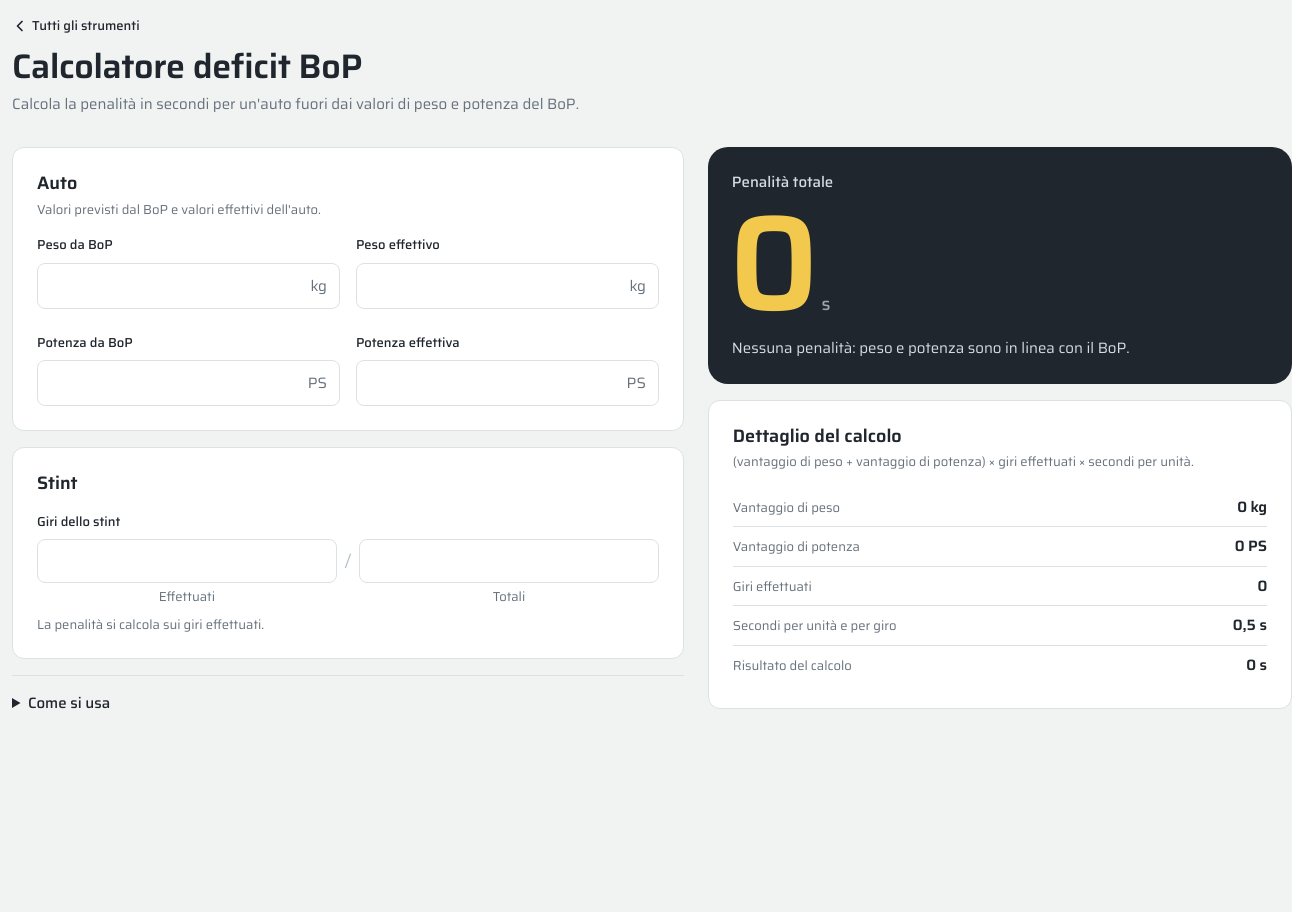
Test case: <BopDeficitCalculator /> › calcola la penalità per un’auto più leggera e più potente
Step 1. Type "1300" into the number field labelled "Peso da BoP" → (174, 286), box [38,264,311,308]
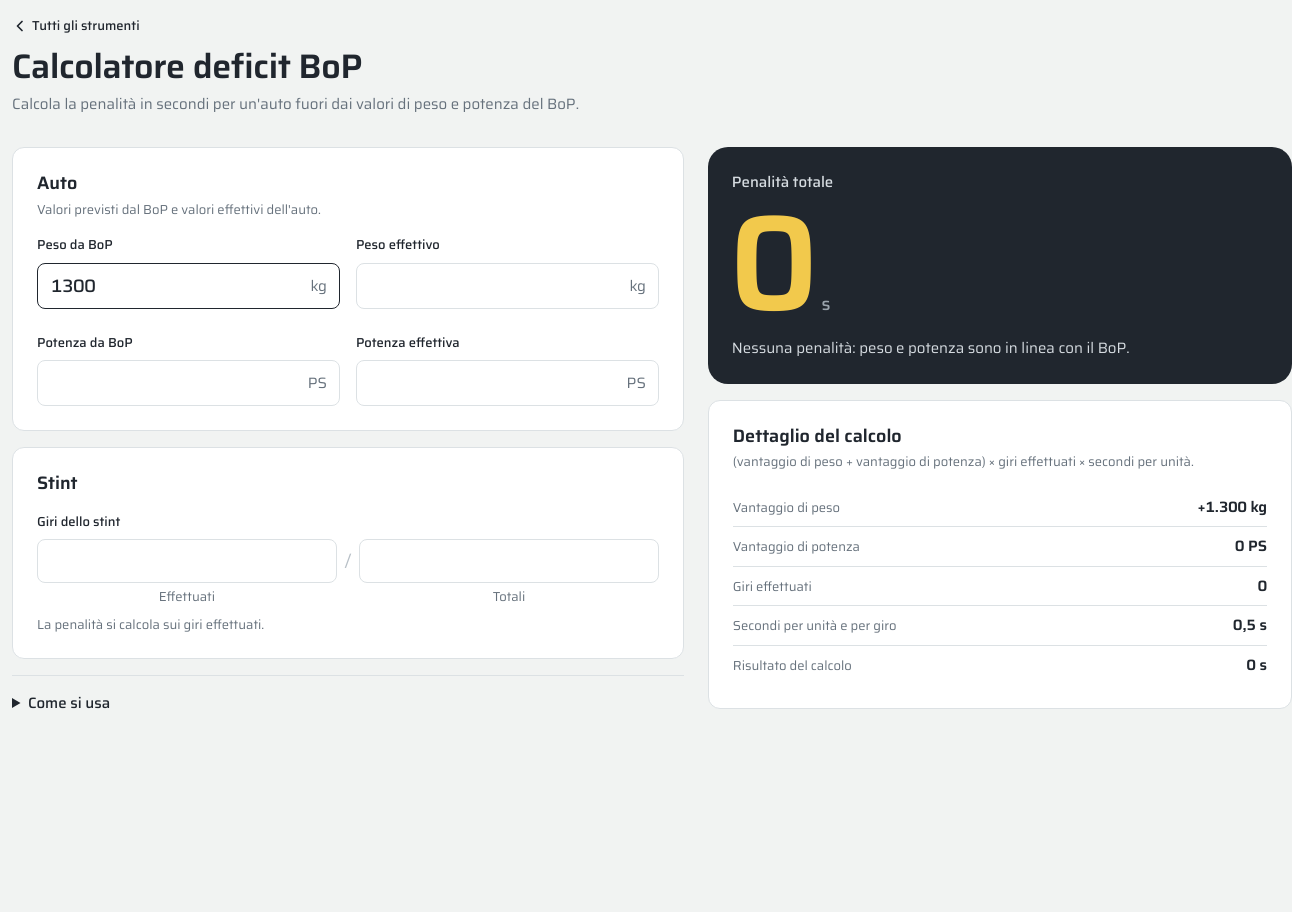
Step 2. Type "1290" into the number field labelled "Peso effettivo" → (493, 286), box [357,264,630,308]
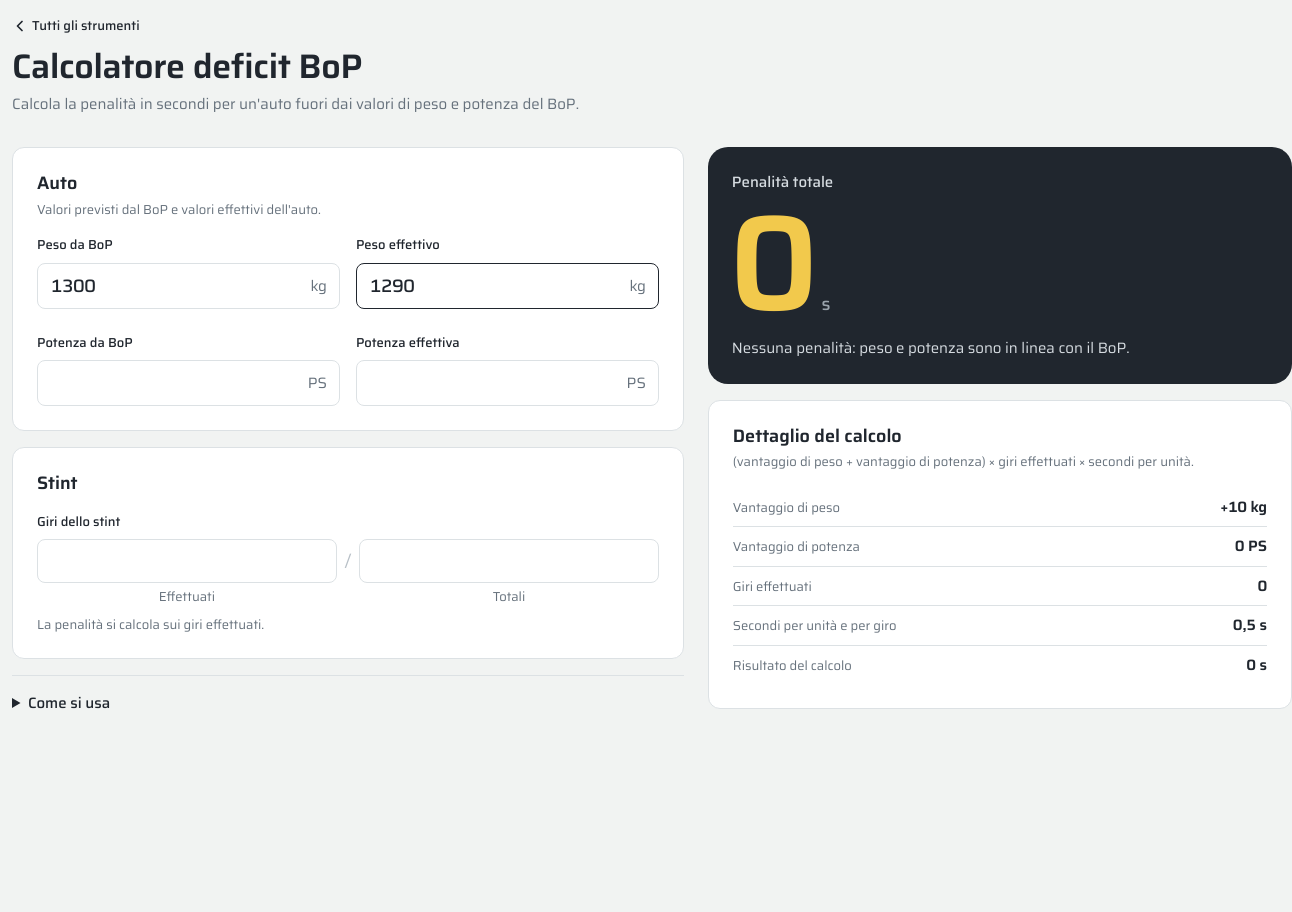
Step 3. Type "500" into the number field labelled "Potenza da BoP" → (173, 383), box [38,361,308,405]
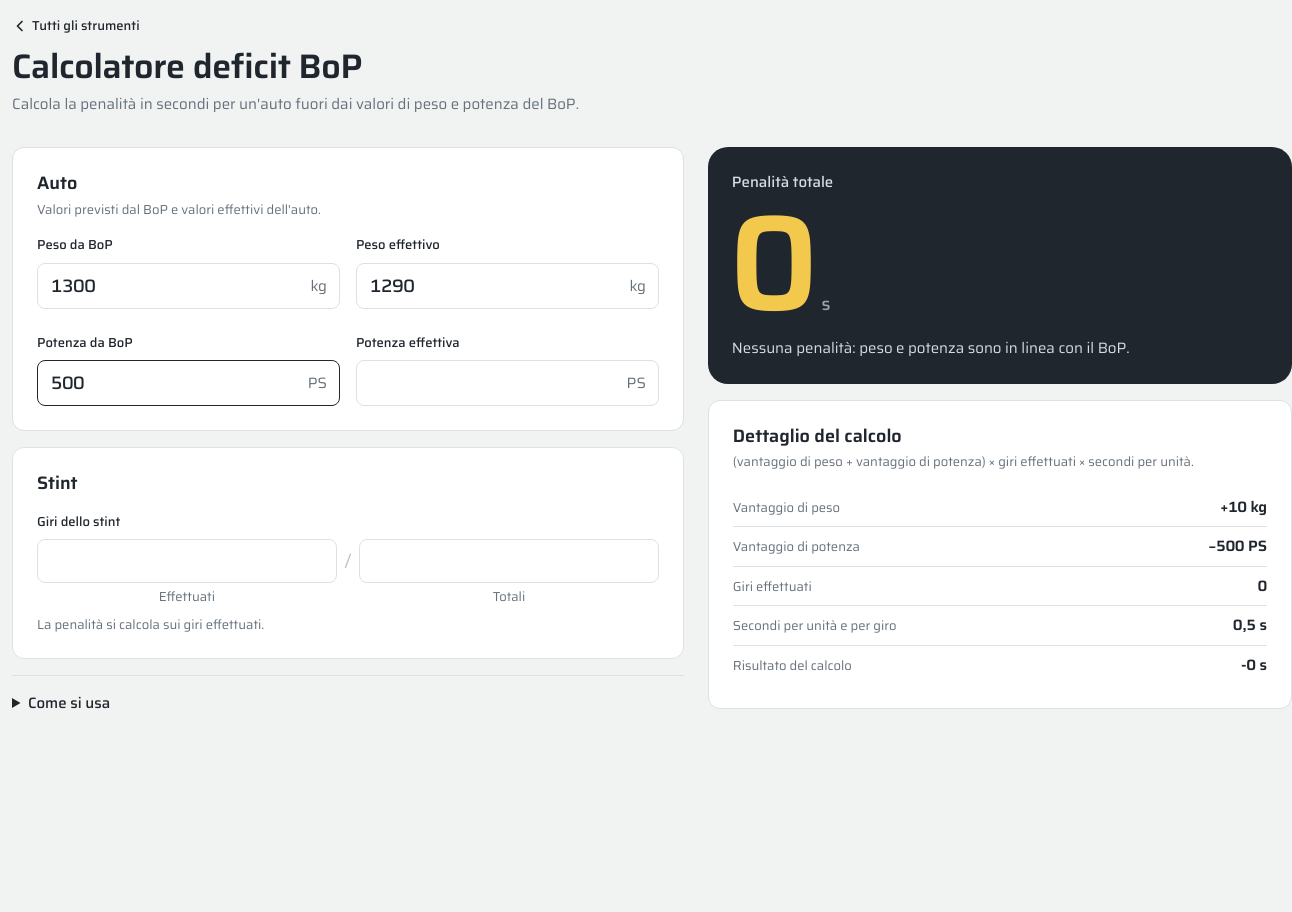
Step 4. Type "505" into the number field labelled "Potenza effettiva" → (492, 383), box [357,361,627,405]
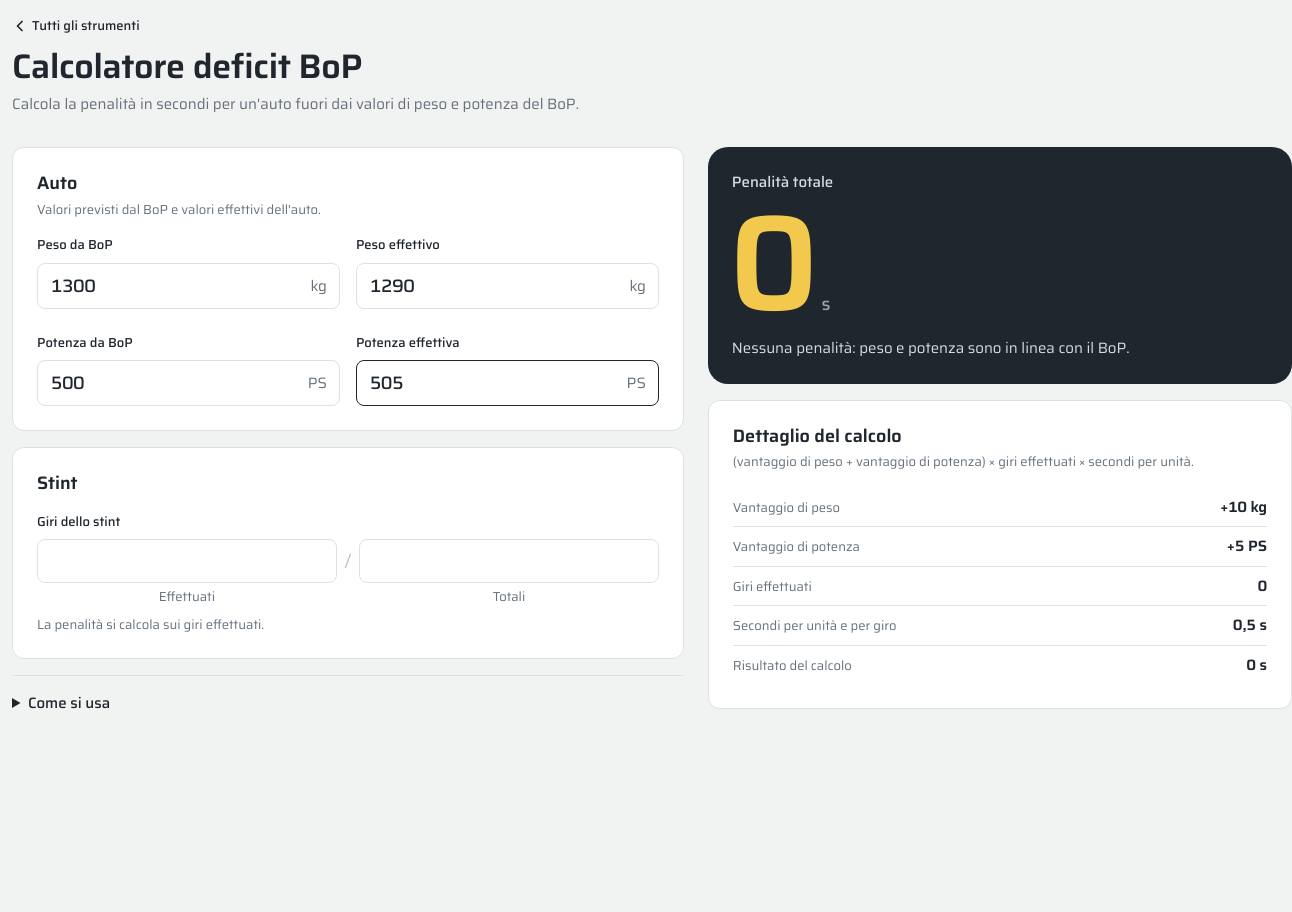
Step 5. Type "12" into the number field labelled "Effettuati" → (187, 561), box [37,539,337,583]
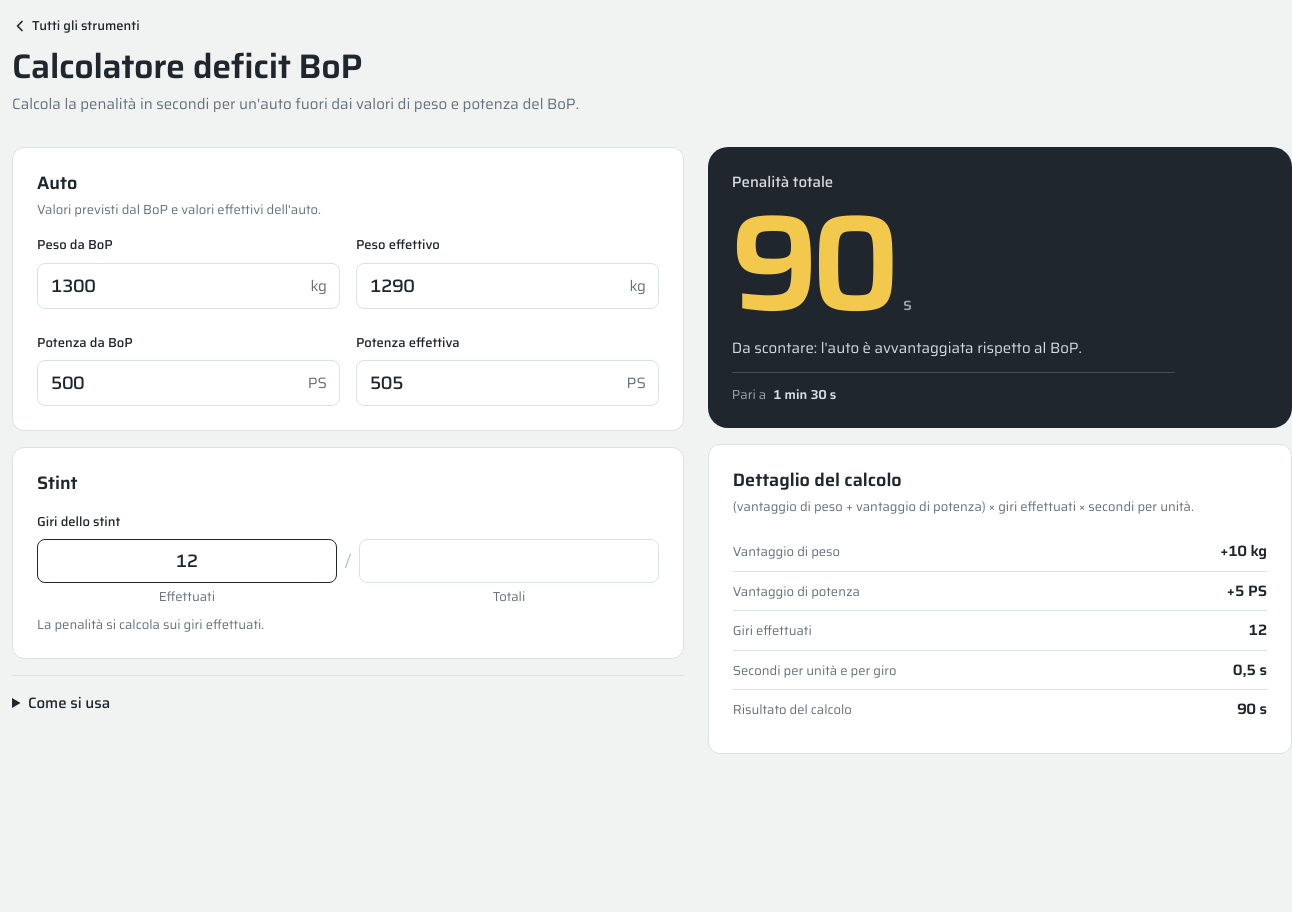
Expected: the element named "Penalità totale" reads "90 s", [732,156,912,370]
Expected: the text "Pari a" shows "1 min 30 s", [773,384,836,405]
